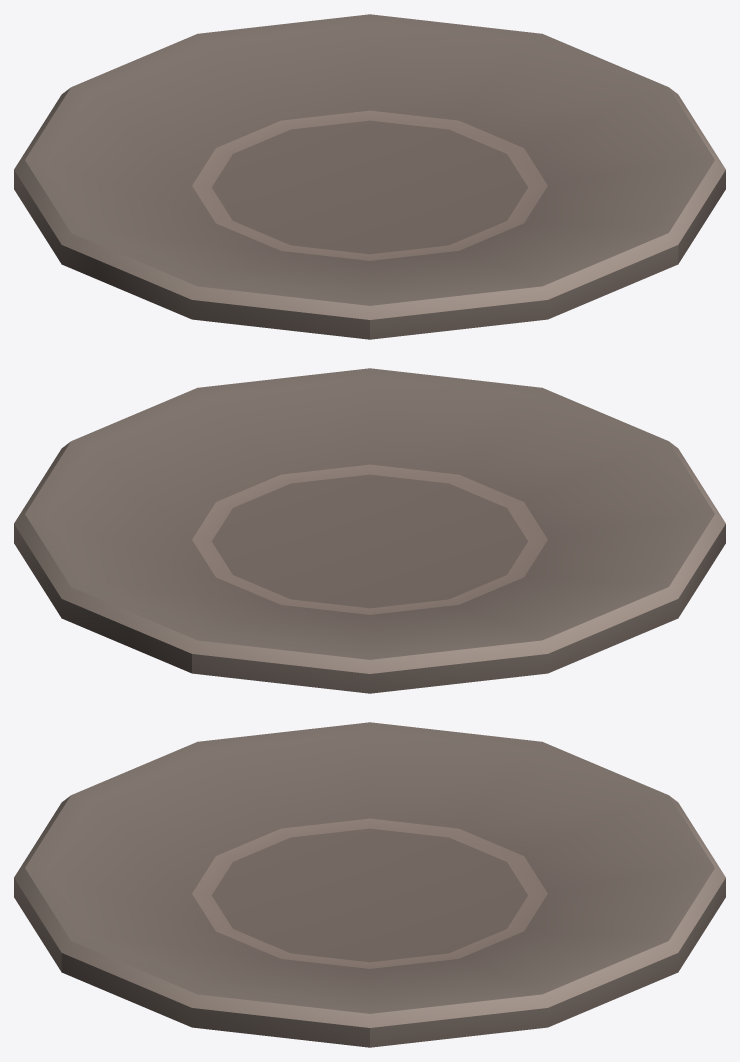
Rendered from plate.fbx.
3 renders of one model, top to bottom at view 1: azimuth 30°, elevation 25°; view 2: azimuth 150°, elevation 25°; view 3: azimuth 270°, elevation 25°, orthographic.
Visible parts, largest first — view 1: plate; view 2: plate; view 3: plate.
Part boxes in pixels (x1,y1,x2,y2): plate: (14,14,725,339); plate: (14,368,725,693); plate: (14,722,725,1047).
Bounding box in the file's own units: 125 × 14.33 × 125.
